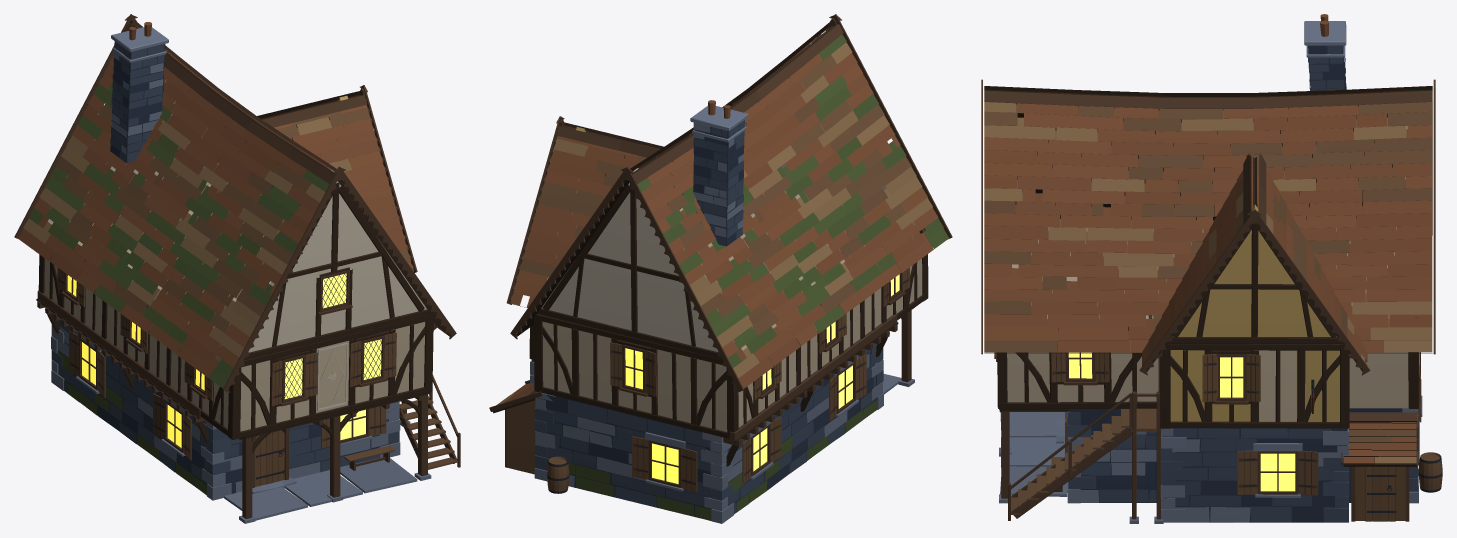
The model's file is house_03_c.glb.
3 views of the same model, side by side, from view 1: azimuth 30°, elevation 25°; view 2: azimuth 150°, elevation 25°; view 3: azimuth 270°, elevation 25° (orthographic). The views are drawn at different scales.
Visible parts, largest first — view 1: isl_house_03_c; view 2: isl_house_03_c; view 3: isl_house_03_c.
Boxes of the visible parts, box(x1,y1,x2,y2) form: isl_house_03_c: box(14, 14, 460, 523); isl_house_03_c: box(489, 14, 952, 523); isl_house_03_c: box(981, 14, 1442, 523).
Bounding box in the file's own units: 8.78 × 11.71 × 11.94.
